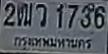1: (56, 4, 63, 27)
2: (4, 2, 14, 25)
3: (80, 4, 94, 28)
6: (94, 5, 104, 28)
7: (68, 4, 78, 28)
A18: (16, 2, 32, 26)
A37: (35, 3, 46, 26)
BKK: (12, 34, 93, 50)
